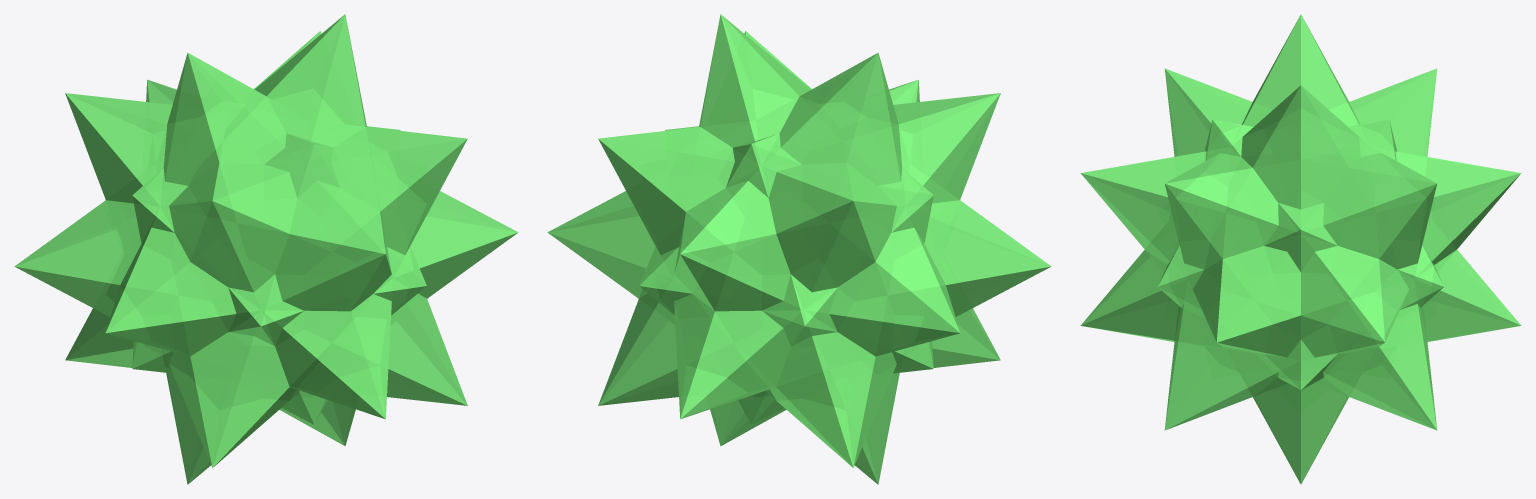
File: GreatIcosacronicHexecontahedron.obj
3 renders of one model, left to right at view 1: azimuth 30°, elevation 25°; view 2: azimuth 150°, elevation 25°; view 3: azimuth 270°, elevation 25°, orthographic. The views are drawn at different scales.
Bounding box in the file's own units: 3.62 × 3.62 × 3.62.
